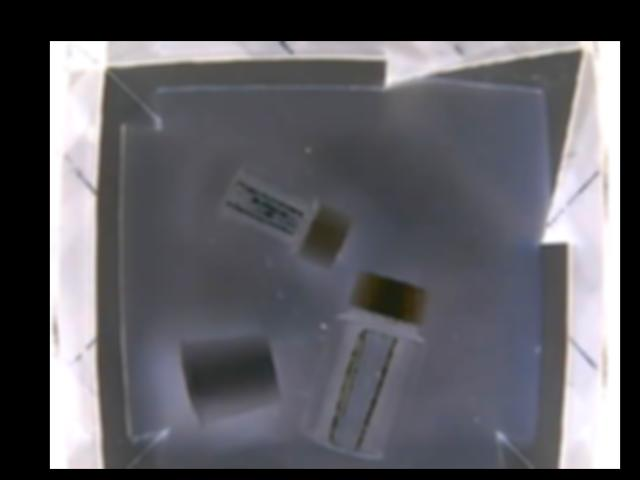Bottle: (298, 272, 429, 459), (224, 170, 351, 268)
Cup: (177, 335, 284, 428)
